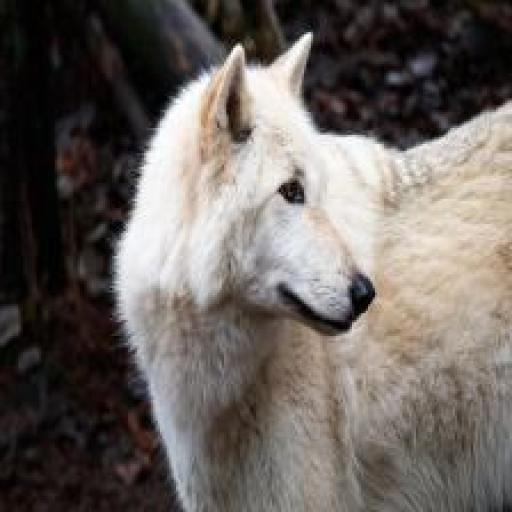wolf: (107, 27, 512, 512)
